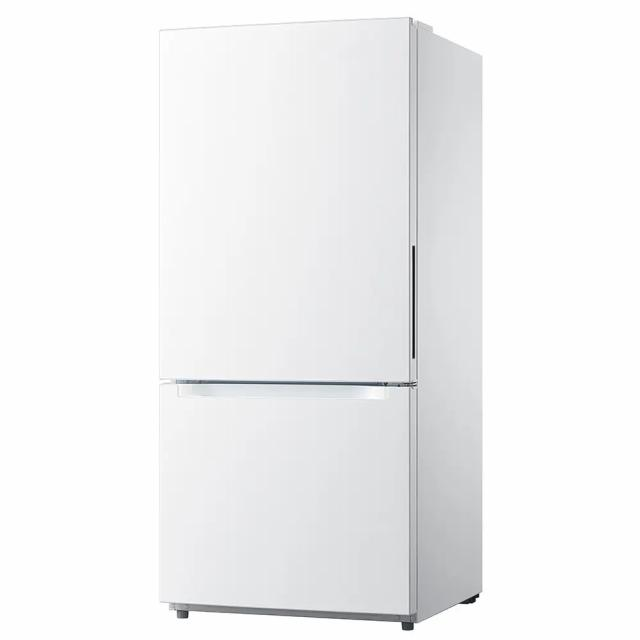refrigerator: (157, 14, 423, 618)
